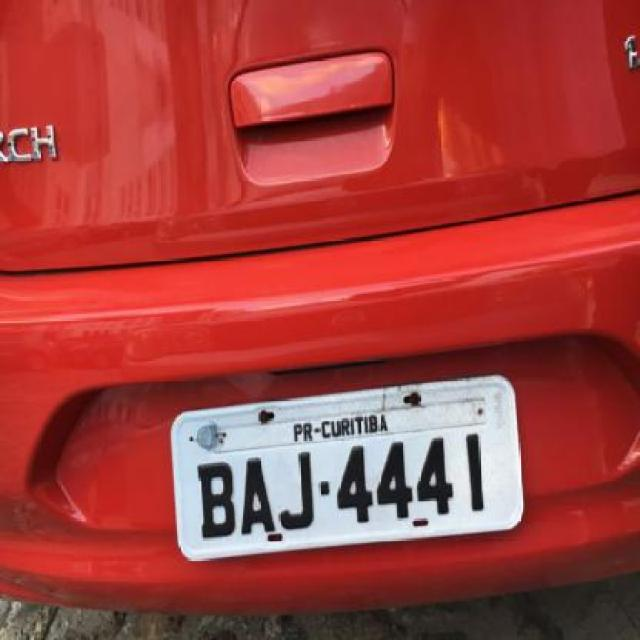old_plate: (164, 370, 531, 568)
